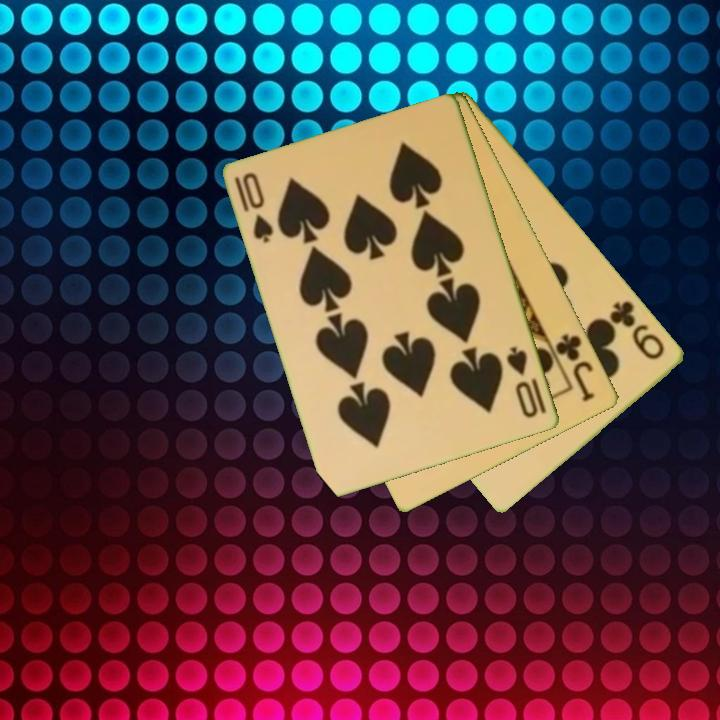10s: (231, 169, 277, 246), (503, 343, 542, 422)
9c: (606, 297, 668, 363)
Jc: (552, 330, 599, 405)
